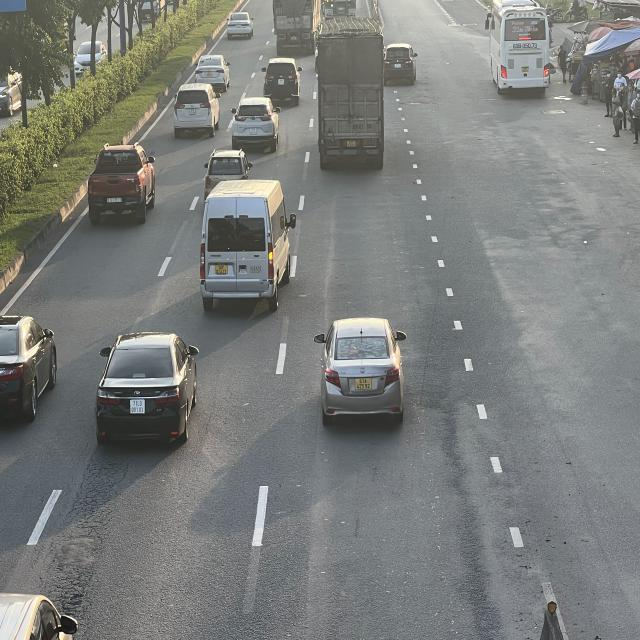car: (94, 331, 198, 445), (314, 318, 406, 426), (0, 314, 57, 425), (89, 142, 159, 223), (228, 95, 280, 150), (176, 82, 224, 134), (263, 56, 303, 105), (382, 42, 418, 85), (196, 53, 231, 91), (227, 12, 255, 42)
coach: (489, 3, 554, 96)
truck: (316, 15, 385, 167), (275, 0, 319, 59)
van: (197, 176, 295, 309)
